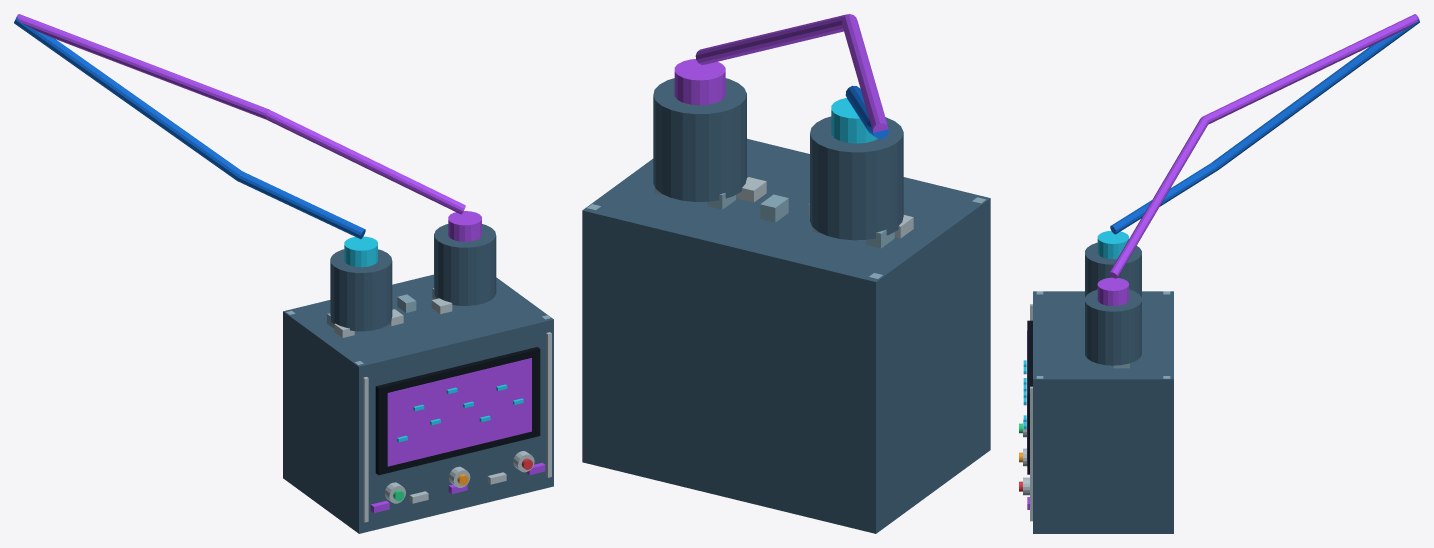
The model's file is 36_L72_InSituOpticalEllipsometer.fbx.
The picture shows the model from 3 angles, left to right: view 1: azimuth 30°, elevation 25°; view 2: azimuth 150°, elevation 25°; view 3: azimuth 270°, elevation 25°; orthographic projection. The views are drawn at different scales.
Visible parts, largest first — view 1: InSituOpticalEllipsometer; view 2: InSituOpticalEllipsometer; view 3: InSituOpticalEllipsometer.
Boxes of the visible parts, x1,y1,x2,y2 form: InSituOpticalEllipsometer: (14, 14, 553, 533); InSituOpticalEllipsometer: (582, 14, 990, 533); InSituOpticalEllipsometer: (1019, 14, 1419, 533).
Size of the model in its own units: 180 by 206 by 202.
